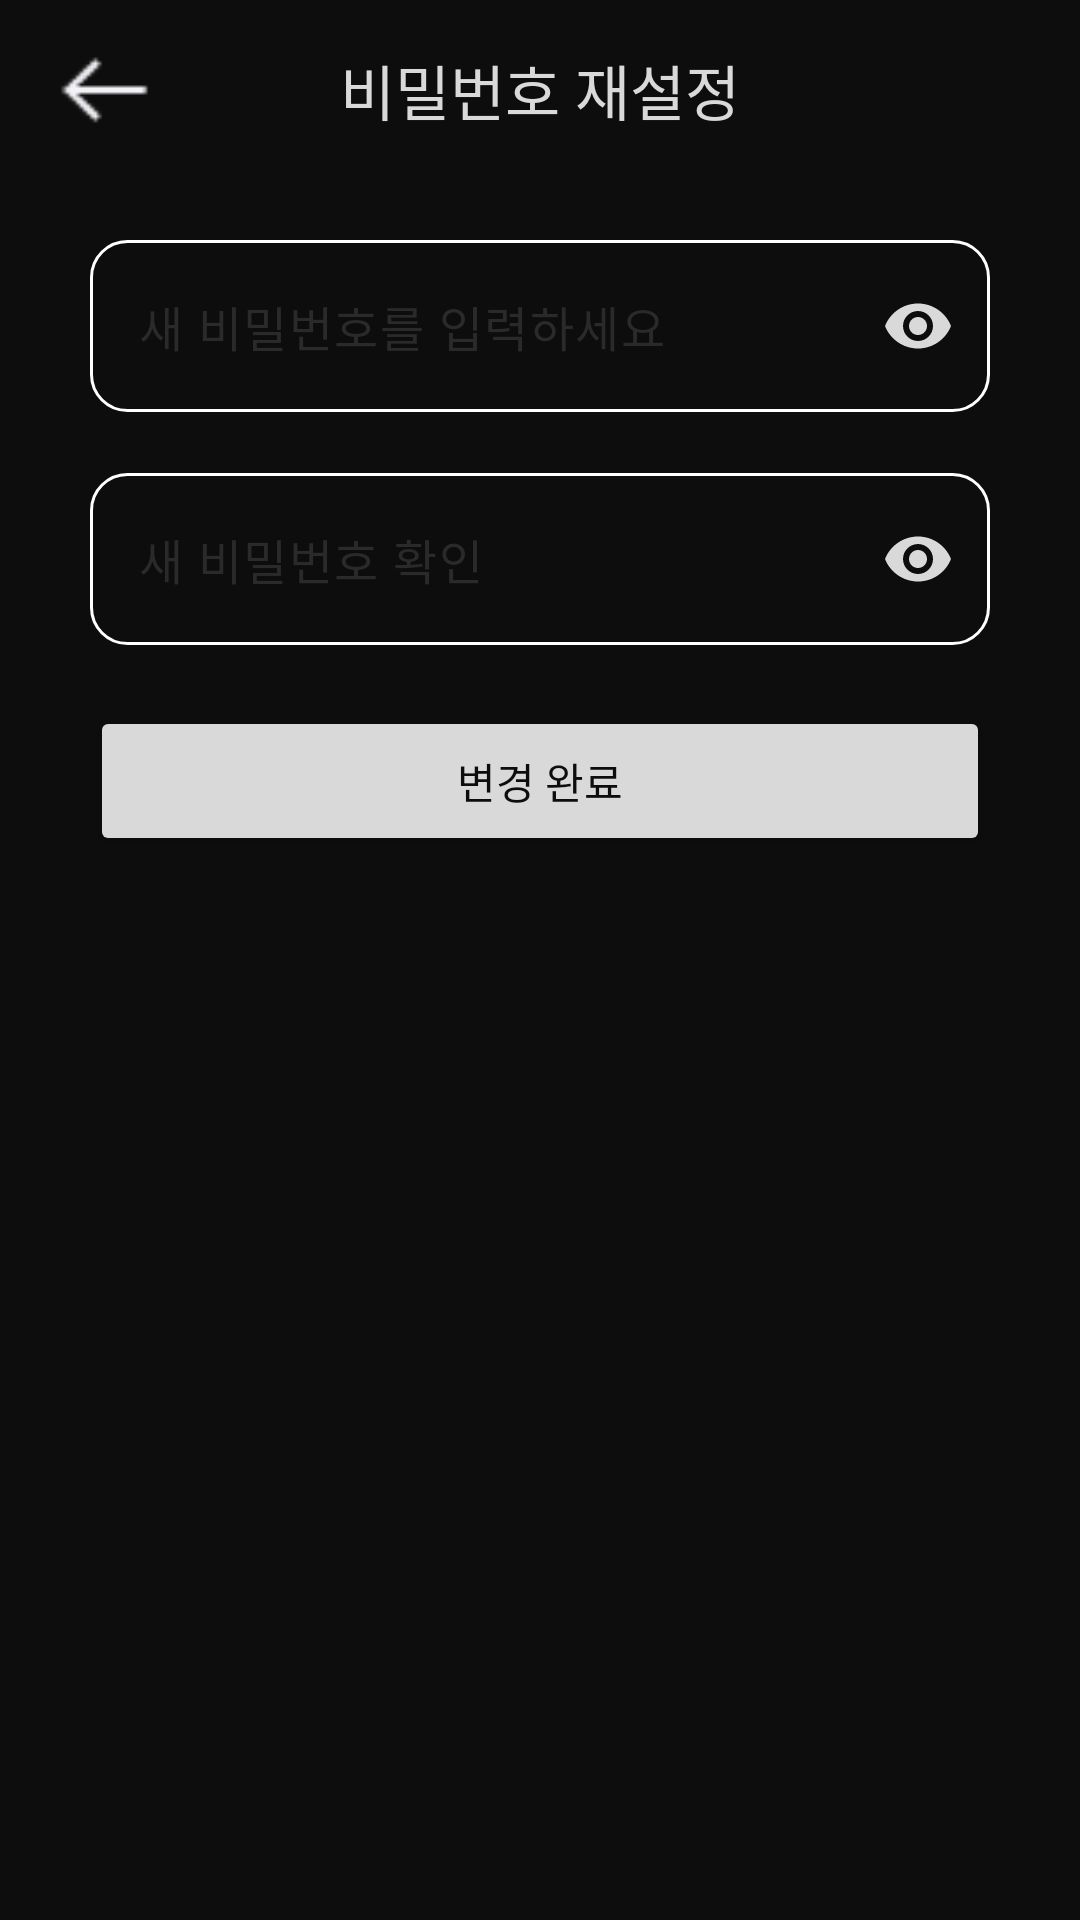

Icon click points for this 1080px×1920px phone screenshot, format [x,y]:
뒤로가기: [104,90]
